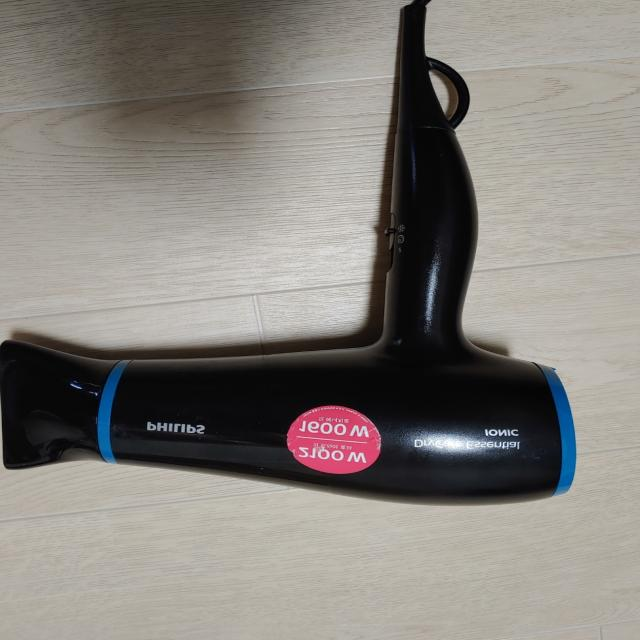dryer: (0, 4, 583, 509)
